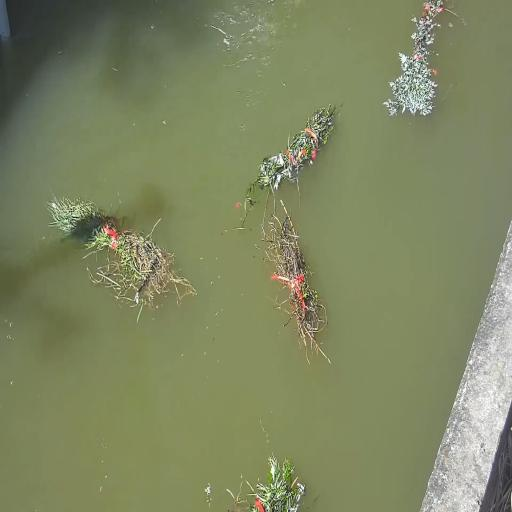twig: (47, 193, 197, 321), (262, 201, 330, 362), (246, 105, 335, 203), (227, 455, 305, 511)
